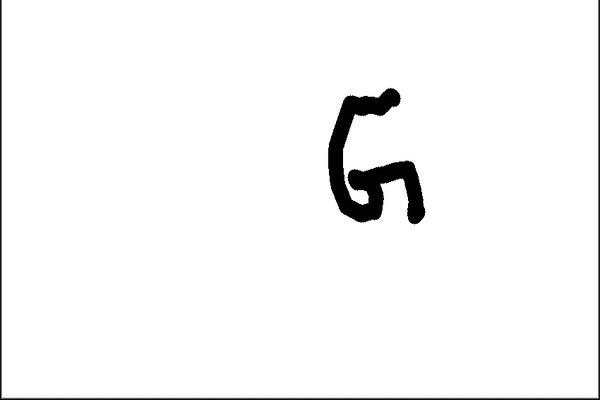G: (320, 84, 432, 227)
